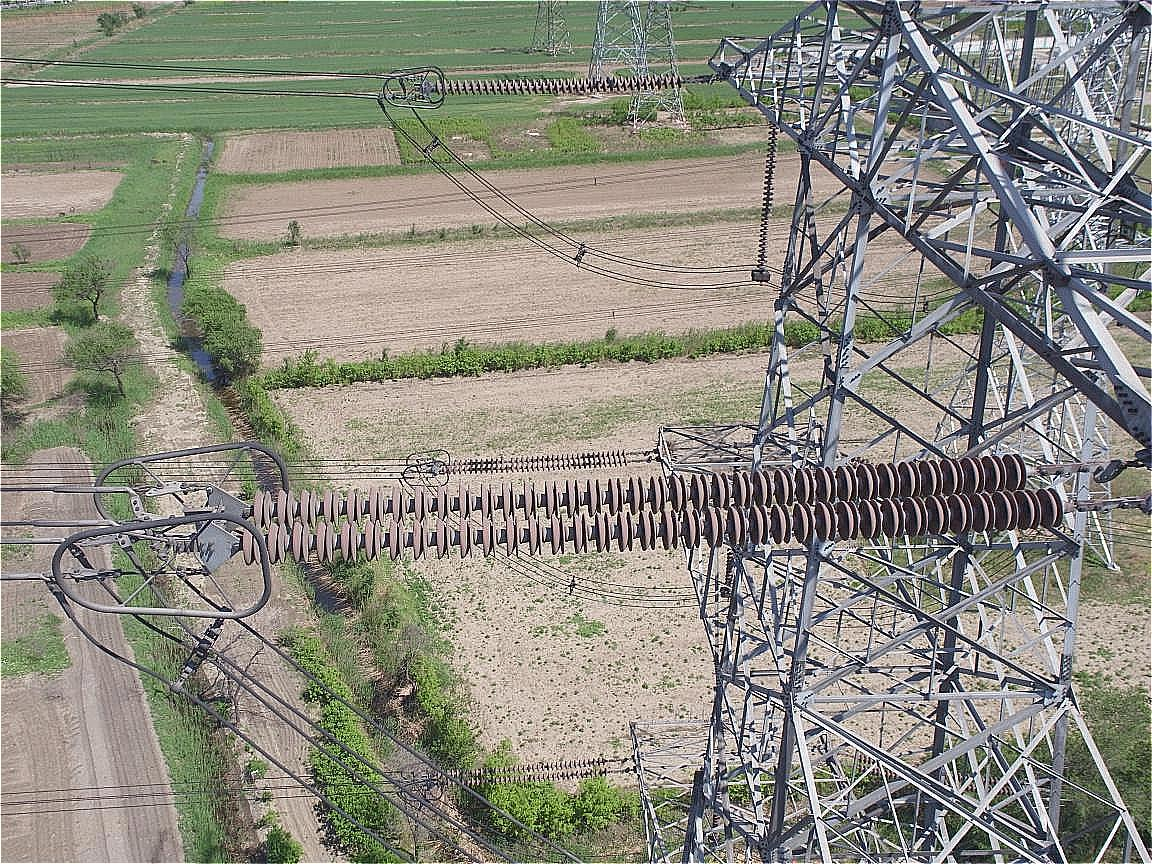insultor1: (434, 71, 685, 97)
insultor2: (240, 453, 1065, 564)
